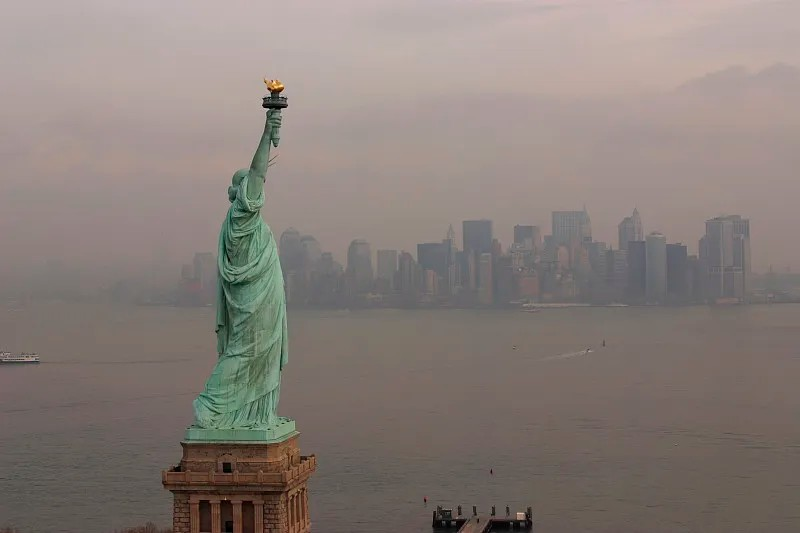SL: (161, 77, 317, 533)
